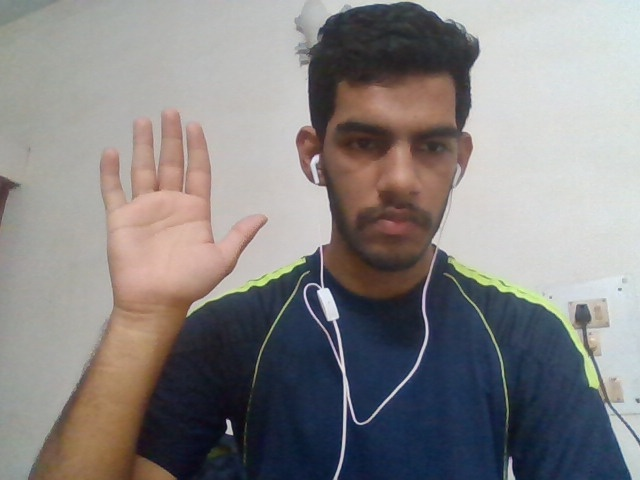hi: (67, 104, 282, 346)
